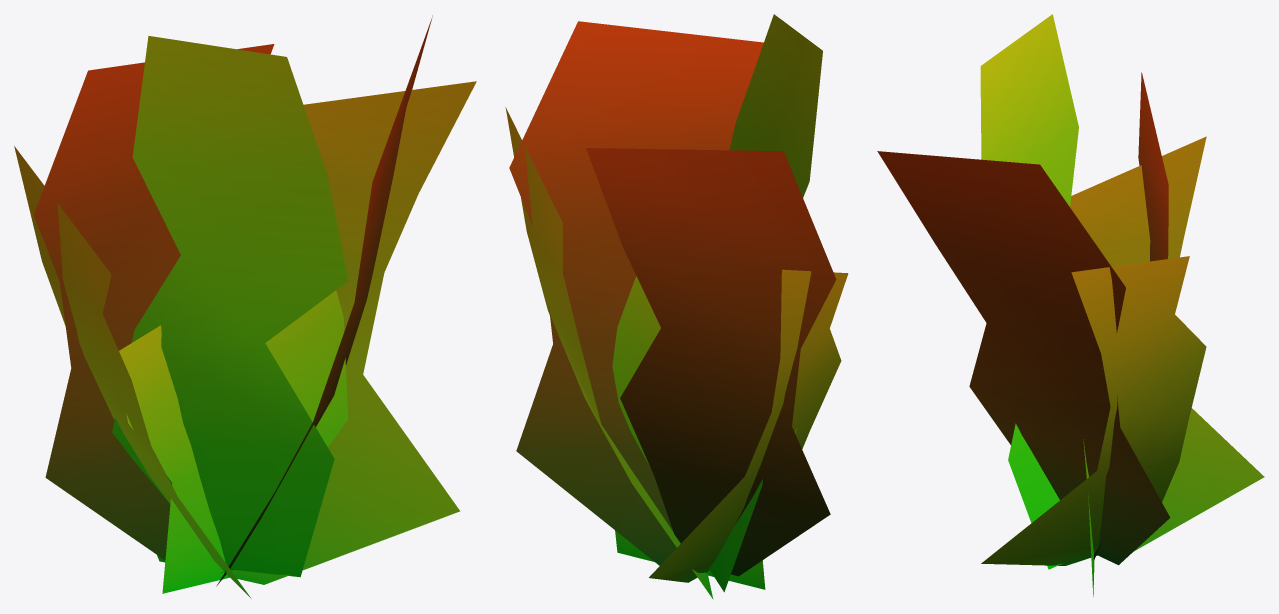
Rendered from Var8Hi16.fbx.
3 renders of one model, left to right at view 1: azimuth 30°, elevation 25°; view 2: azimuth 150°, elevation 25°; view 3: azimuth 270°, elevation 25°, orthographic. The views are drawn at different scales.
Parts seen in each view (by area): view 1: bend1; view 2: bend1; view 3: bend1.
Part boxes in pixels (x1,y1,x2,y2): bend1: (14, 15, 476, 598); bend1: (505, 14, 848, 599); bend1: (877, 14, 1264, 596).
Size of the model in its own units: 1.27 by 1.76 by 1.23.
